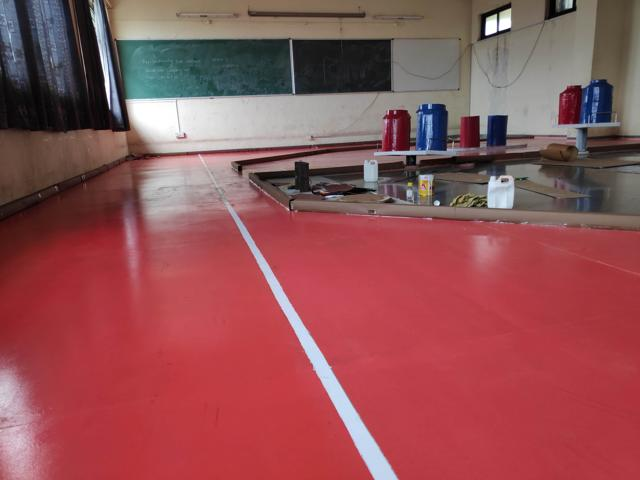Blue: (415, 104, 450, 151), (582, 76, 616, 122), (485, 116, 509, 147)
Red: (381, 110, 410, 150), (559, 83, 581, 126), (459, 115, 479, 147)
